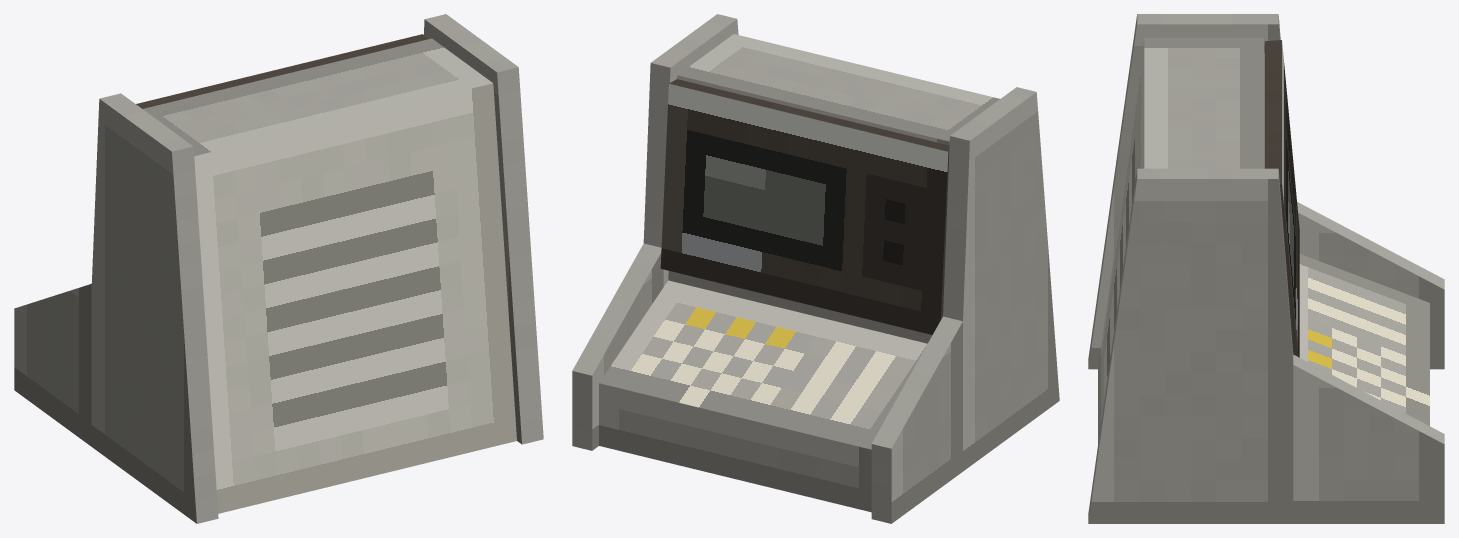
The model's file is era3_uniscope.obj.
The picture shows the model from 3 angles, left to right: view 1: azimuth 30°, elevation 25°; view 2: azimuth 150°, elevation 25°; view 3: azimuth 270°, elevation 25°; orthographic projection. The views are drawn at different scales.
Parts seen in each view (by area): view 1: era3_uniscope; view 2: era3_uniscope; view 3: era3_uniscope.
Boxes of the visible parts, left/top/right/bottom form: era3_uniscope: left=14, top=14, right=543, bottom=523; era3_uniscope: left=572, top=14, right=1059, bottom=523; era3_uniscope: left=1088, top=14, right=1444, bottom=523.
Bounding box in the file's own units: 1 × 0.975 × 0.9125.
